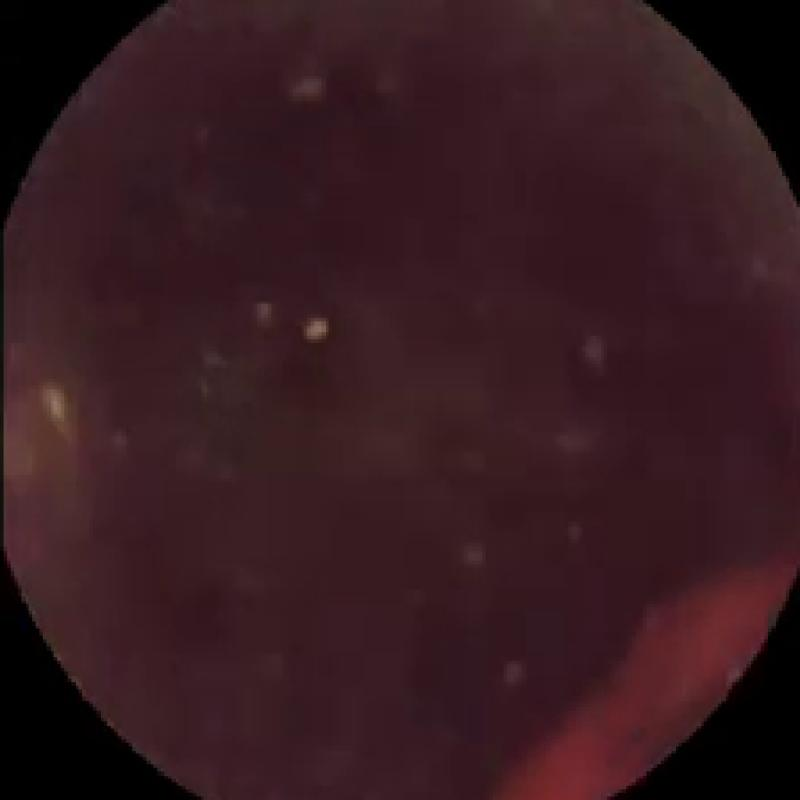bleeding: (500, 557, 800, 800)
